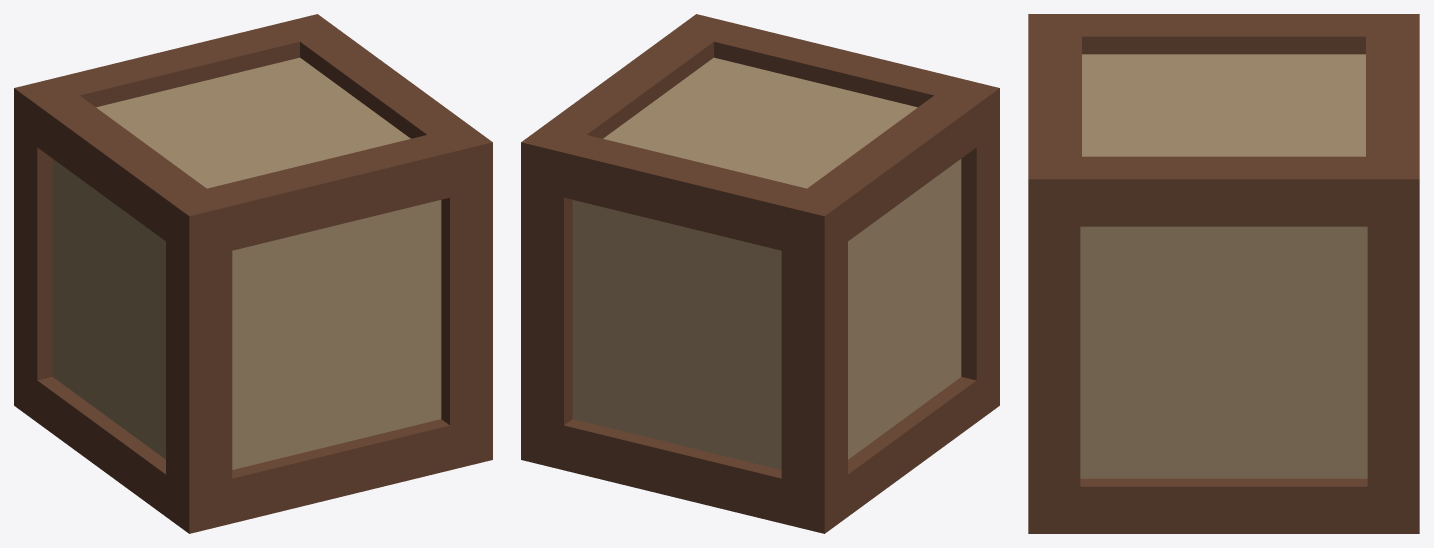
The model's file is krat.fbx.
3 renders of one model, left to right at view 1: azimuth 30°, elevation 25°; view 2: azimuth 150°, elevation 25°; view 3: azimuth 270°, elevation 25°, orthographic. The views are drawn at different scales.
Parts seen in each view (by area): view 1: Cube.001; view 2: Cube.001; view 3: Cube.001.
Part boxes in pixels (<box>): Cube.001: <box>14,14,492,533</box>; Cube.001: <box>521,14,999,533</box>; Cube.001: <box>1028,14,1419,533</box>.
Size of the model in its own units: 2 by 2 by 2.
